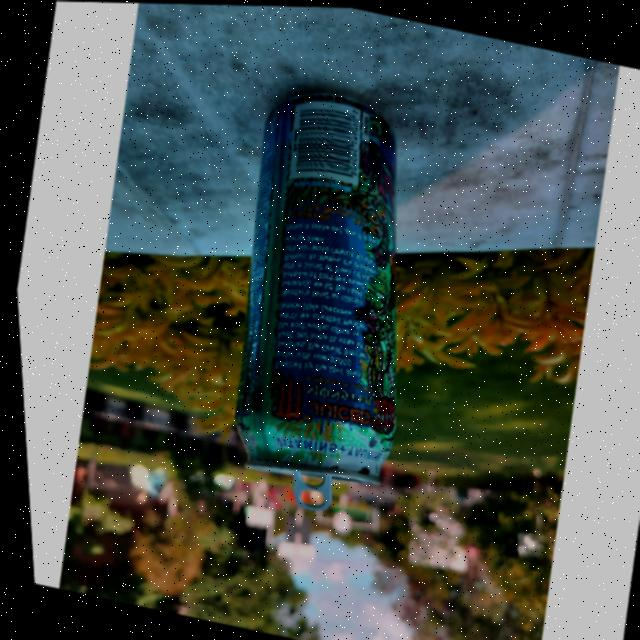Monster Aussie Lemonade: (194, 83, 447, 501)
